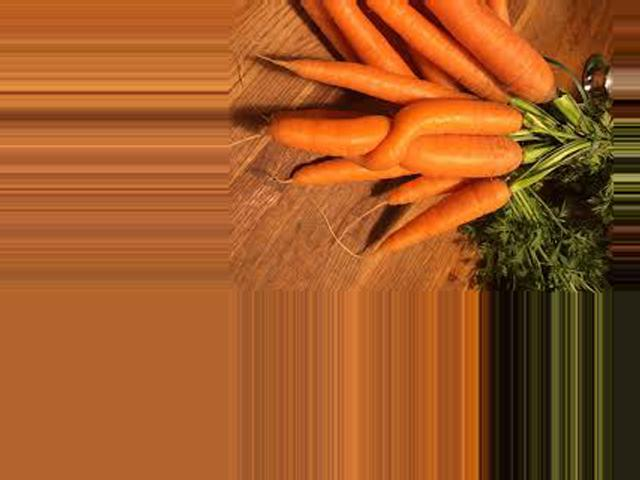carrot: (432, 4, 564, 102)
